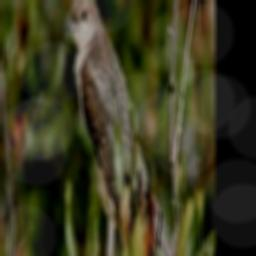Cuckoo: (63, 0, 185, 256)
